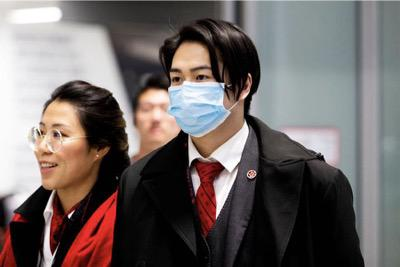with_mask: (166, 65, 232, 139)
without_mask: (32, 119, 91, 191), (134, 89, 177, 146)
